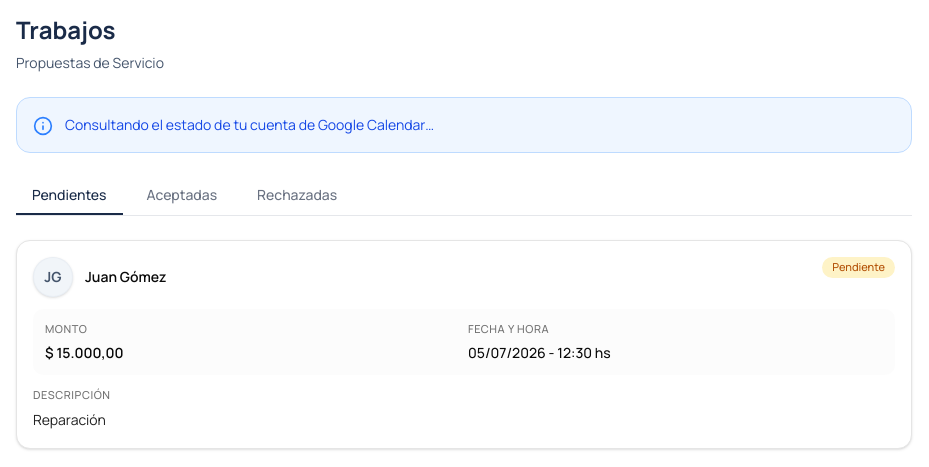
Test: ProposalHistoryView › filters proposals when clicking tabs
The width and height of the screenshot is (929, 467).
Click the tab "Aceptadas": (182, 196) [131, 177, 233, 215]
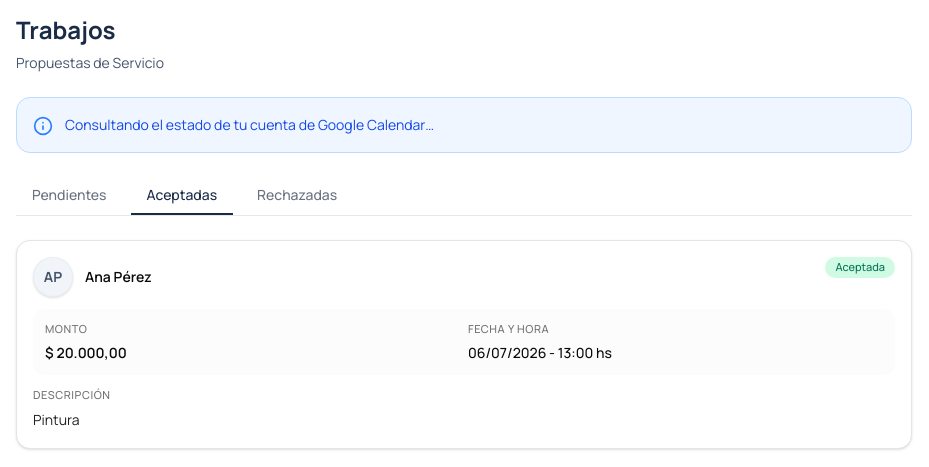
expect the button "Juan Gómez" is gone: met
expect the heading "Ana Pérez" is shown: met, box [85, 270, 152, 284]
